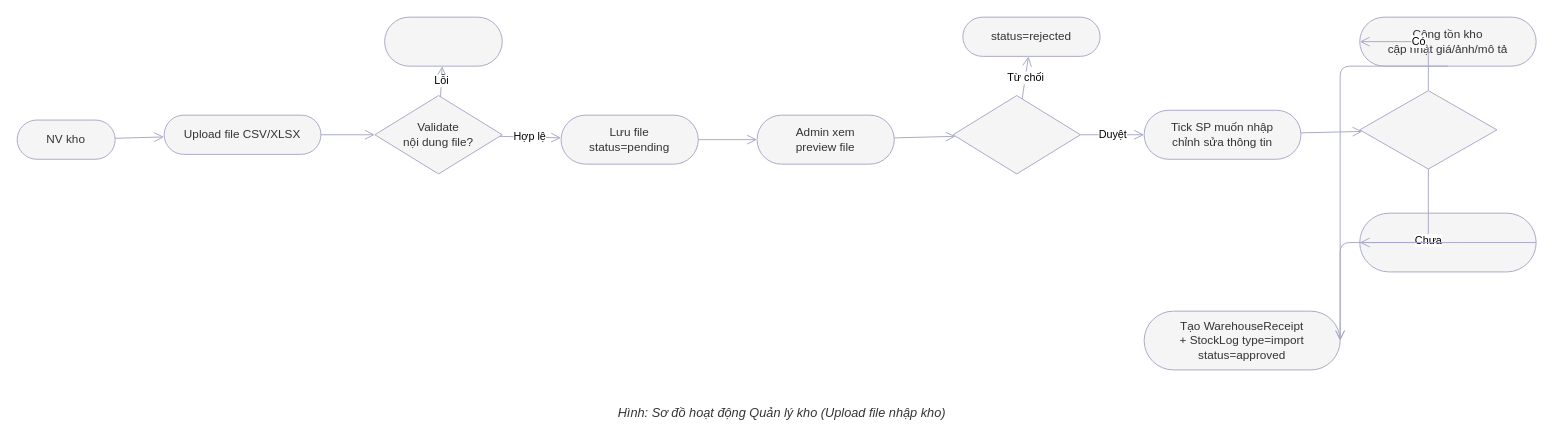
Some shapes in this 1563 by 446 pixel diagram are drawn without their labels. Each missing label, with the centre of its shape:
Báo lỗi không lưu: point 443,41
Quyết định?: point 1016,134
SP đã có trong hệ thống?: point 1428,129
Tạo mới Product tìm/tạo brand, category, conc: point 1447,242
